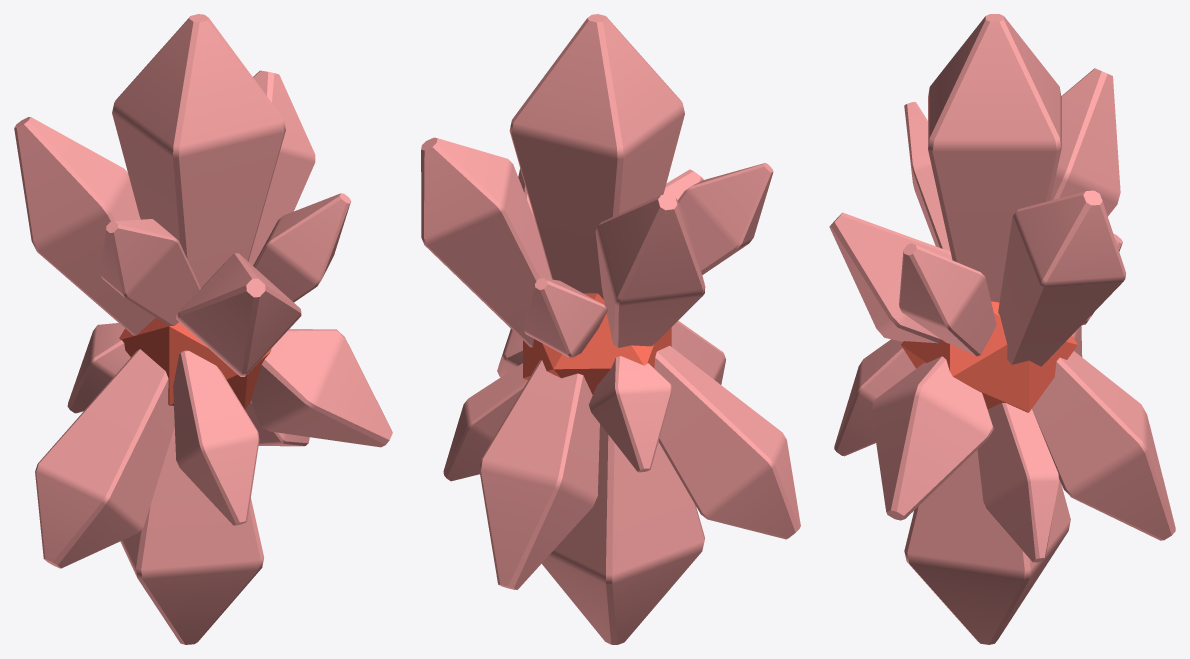
The model's file is Floating_Crystal.fbx.
The picture shows the model from 3 angles, left to right: view 1: azimuth 30°, elevation 25°; view 2: azimuth 150°, elevation 25°; view 3: azimuth 270°, elevation 25°; orthographic projection. The views are drawn at different scales.
Parts seen in each view (by area): view 1: pCube6, pasted__pCube7, pasted__pCube6, pCube8, pasted__pCube9, pasted__pCube11, pCube9, pCube10, pCube11, pCube7, pPlatonic1, pasted__pCube12 (+1 smaller); view 2: pCube6, pasted__pCube6, pasted__pCube8, pasted__pCube7, pCube7, pCube8, pCube10, pasted__pCube12, pCube12, pasted__pCube10, pPlatonic1, pasted__pCube11 (+2 smaller); view 3: pCube6, pCube7, pasted__pCube8, pasted__pCube6, pasted__pCube9, pasted__pCube10, pCube11, pCube8, pCube9, pPlatonic1, pasted__pCube11, pCube10.
Boxes of the visible parts, x1,y1,x2,y2 form: pCube6: (112, 14, 285, 287); pasted__pCube7: (35, 349, 174, 568); pasted__pCube6: (120, 426, 264, 644); pCube8: (14, 117, 155, 335); pasted__pCube9: (251, 329, 392, 447); pasted__pCube11: (173, 350, 259, 525); pCube9: (176, 253, 301, 376); pCube10: (100, 219, 200, 325); pCube11: (253, 193, 350, 302); pCube7: (248, 70, 315, 265); pPlatonic1: (119, 318, 271, 409); pasted__pCube12: (67, 323, 130, 413); pCube6: (509, 14, 684, 299); pasted__pCube6: (541, 424, 704, 644); pasted__pCube8: (479, 360, 599, 589); pasted__pCube7: (654, 345, 800, 539); pCube7: (421, 137, 551, 347); pCube8: (595, 194, 705, 347); pCube10: (677, 163, 773, 274); pasted__pCube12: (589, 356, 671, 472); pCube12: (523, 278, 607, 358); pasted__pCube10: (443, 363, 527, 481); pPlatonic1: (523, 293, 671, 394); pasted__pCube11: (671, 320, 725, 384); pCube6: (928, 14, 1061, 302); pCube7: (998, 190, 1126, 366); pasted__pCube8: (1032, 351, 1175, 540); pasted__pCube6: (904, 450, 1070, 644); pasted__pCube9: (871, 356, 993, 520); pasted__pCube10: (977, 403, 1059, 562); pCube11: (899, 243, 996, 356); pCube8: (1050, 68, 1120, 216); pCube9: (829, 212, 952, 343); pPlatonic1: (901, 301, 1077, 412); pasted__pCube11: (834, 339, 915, 456); pCube10: (904, 102, 950, 251).
Size of the model in its own units: 9.9 by 18.11 by 9.02.
